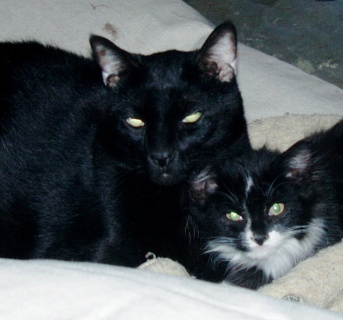Cat: (0, 19, 250, 268), (197, 115, 342, 290)
